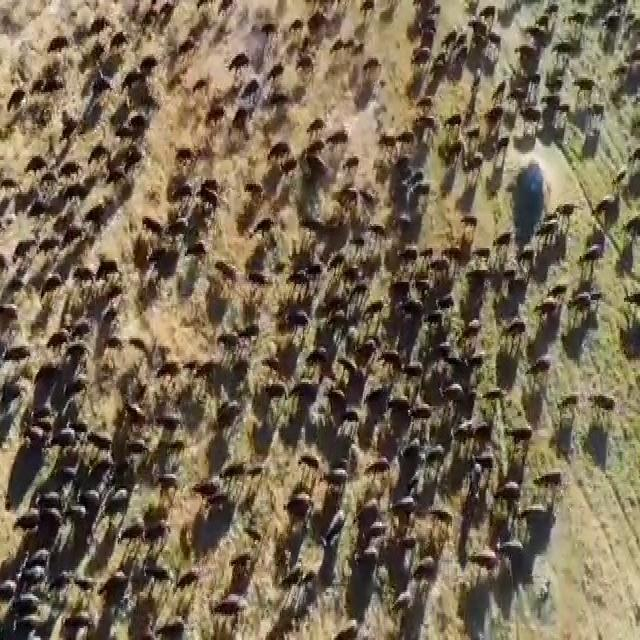Buffalo: (35, 189, 123, 233), (336, 259, 382, 330), (387, 114, 431, 176), (308, 112, 354, 159), (297, 369, 334, 421), (361, 453, 409, 493), (210, 379, 246, 432), (525, 30, 565, 74), (104, 485, 139, 535), (242, 270, 289, 307), (230, 313, 260, 370), (228, 59, 264, 105), (402, 174, 436, 221), (406, 286, 434, 343), (491, 516, 526, 561), (22, 484, 56, 530), (434, 373, 479, 407), (54, 423, 88, 468), (490, 134, 520, 184), (464, 12, 508, 45), (413, 556, 452, 593), (502, 224, 536, 266), (97, 150, 130, 192), (192, 464, 222, 510), (253, 372, 290, 409), (326, 463, 356, 508), (534, 213, 568, 252), (457, 316, 502, 344), (592, 195, 628, 230), (154, 408, 192, 440), (580, 239, 608, 282), (472, 533, 499, 577), (139, 196, 161, 248), (558, 386, 581, 435), (26, 550, 49, 599), (8, 340, 36, 380), (622, 268, 640, 330), (570, 294, 606, 324), (351, 213, 384, 245), (519, 498, 553, 528), (378, 336, 412, 366), (392, 593, 426, 622), (417, 396, 439, 440), (388, 392, 414, 429), (486, 476, 518, 506), (464, 208, 488, 248), (269, 143, 299, 175), (352, 337, 378, 373), (154, 464, 178, 502), (538, 458, 560, 498), (539, 282, 561, 322), (37, 277, 64, 309), (504, 305, 526, 344), (6, 593, 35, 622), (56, 338, 96, 359), (148, 562, 178, 590), (216, 252, 238, 290), (588, 389, 611, 425), (78, 250, 102, 284), (530, 342, 550, 381), (60, 313, 91, 338), (93, 253, 116, 284), (288, 308, 314, 335), (522, 100, 547, 128), (172, 567, 203, 589), (158, 612, 183, 639), (72, 493, 91, 528), (512, 422, 534, 452), (129, 399, 147, 434), (304, 337, 326, 365), (117, 435, 142, 455), (220, 586, 237, 615), (354, 548, 374, 572), (246, 213, 278, 228), (473, 414, 492, 436), (578, 70, 594, 96), (94, 66, 108, 95), (458, 417, 473, 438), (190, 240, 203, 261)
